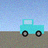vehicle: (20, 19, 44, 36)
